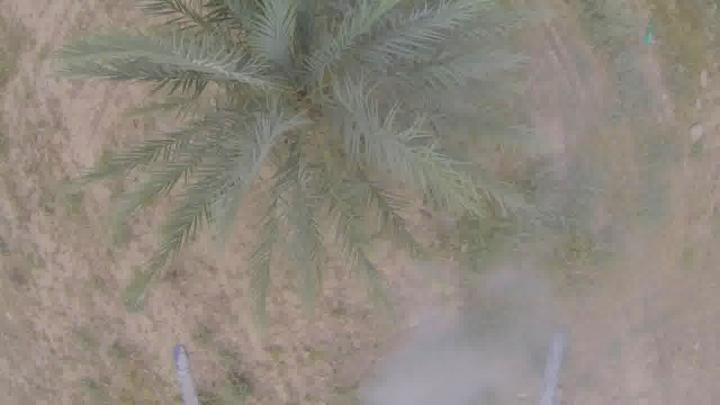Date-Palm-Crown: (159, 4, 429, 192)
